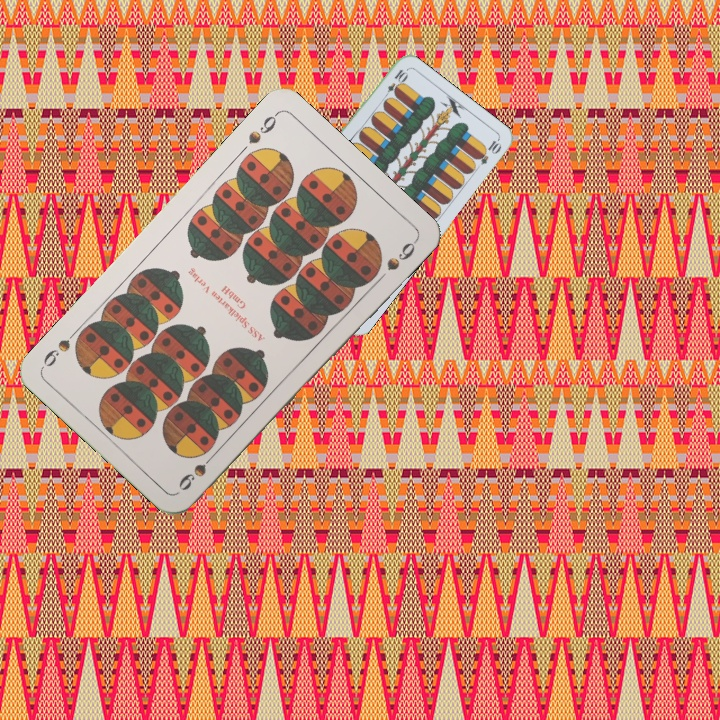E10: (379, 65, 410, 102)
S9: (174, 447, 220, 494), (243, 108, 281, 147)
